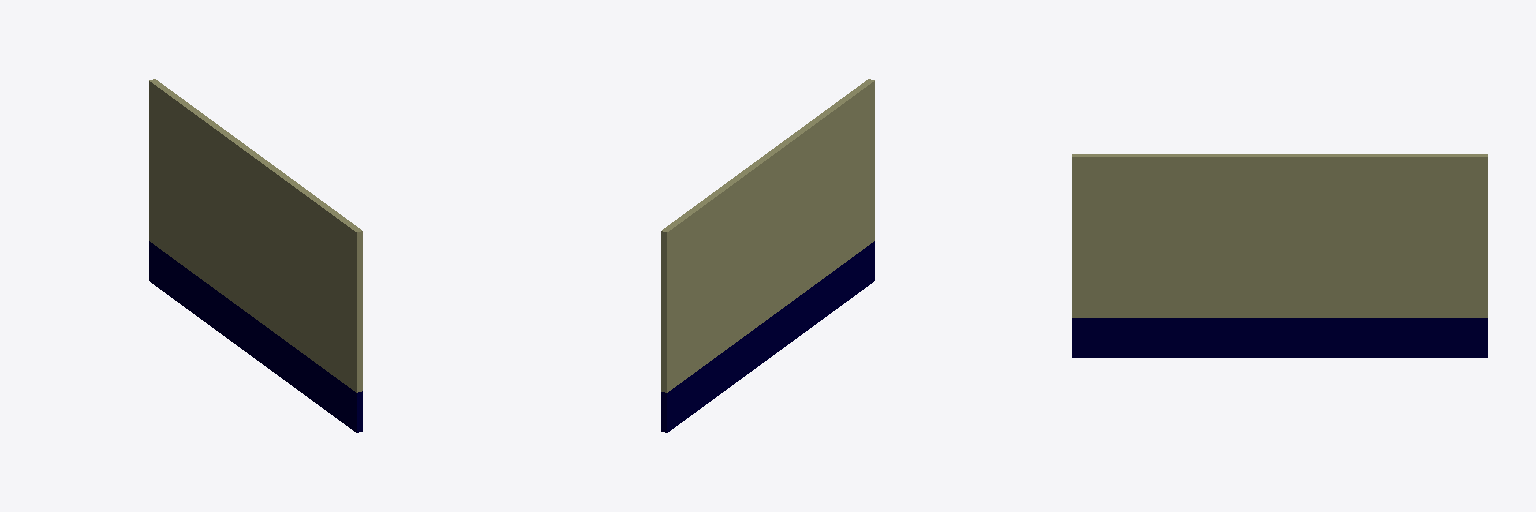
Rendered from wall_plain.obj.
3 renders of one model, left to right at view 1: azimuth 30°, elevation 25°; view 2: azimuth 150°, elevation 25°; view 3: azimuth 270°, elevation 25°, orthographic.
Visible parts, largest first — view 1: wall.001_Cube.003, Cube.001_Cube.004; view 2: wall.001_Cube.003, Cube.001_Cube.004; view 3: wall.001_Cube.003, Cube.001_Cube.004.
Boxes of the visible parts, x1=… form: wall.001_Cube.003: x1=149, y1=79, x2=362, y2=392; Cube.001_Cube.004: x1=149, y1=241, x2=362, y2=432; wall.001_Cube.003: x1=661, y1=79, x2=874, y2=392; Cube.001_Cube.004: x1=661, y1=241, x2=874, y2=432; wall.001_Cube.003: x1=1072, y1=154, x2=1487, y2=317; Cube.001_Cube.004: x1=1072, y1=318, x2=1487, y2=357.
Bounding box in the file's own units: 0.2036 × 5.98 × 11.25.